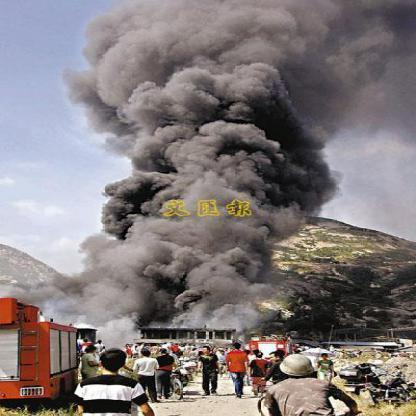smoke: (63, 1, 412, 148), (100, 150, 344, 258), (28, 260, 290, 340)
